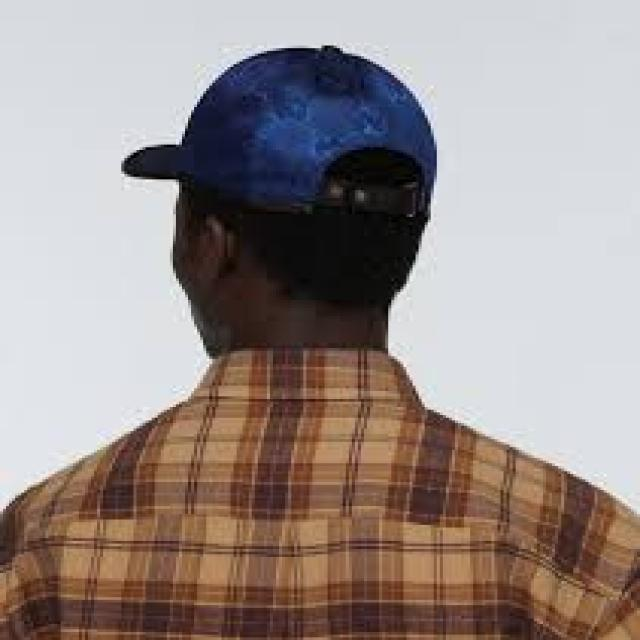3_gorra: (116, 38, 444, 221)
